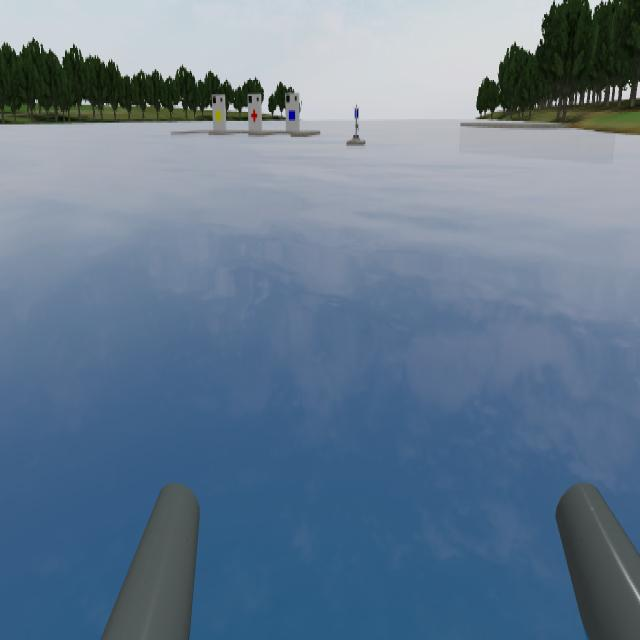blue_pole: (350, 100, 363, 128)
